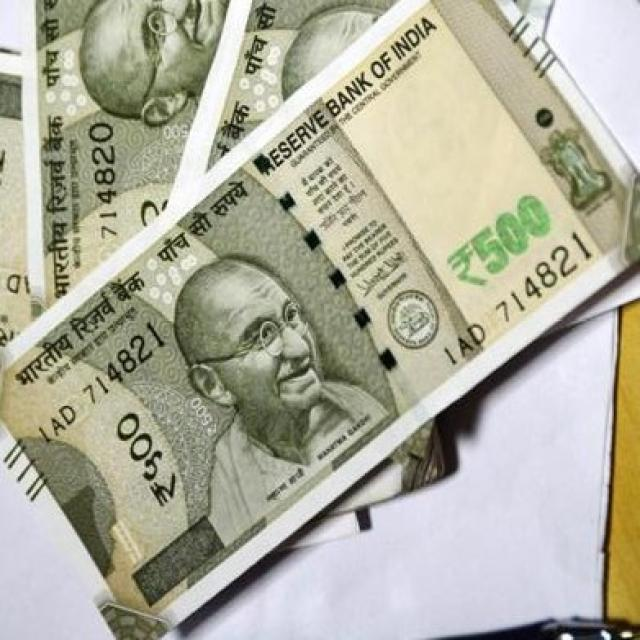500rs: (3, 2, 640, 276), (4, 284, 511, 508)
